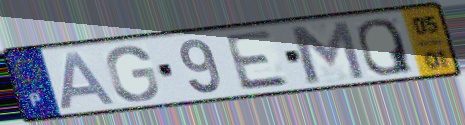9: (176, 37, 224, 95)
A: (58, 49, 119, 111)
E: (221, 28, 294, 93)
G: (103, 43, 161, 103)
M: (285, 19, 369, 86)
Q: (354, 16, 416, 78)
